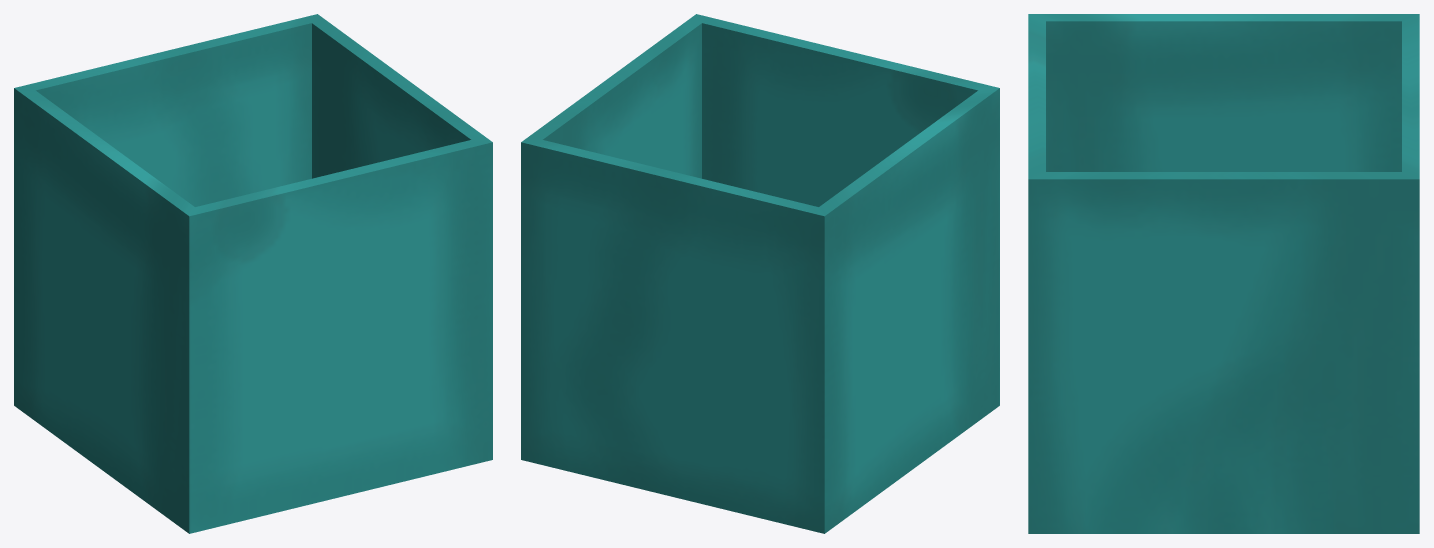
Rendered from demo2_basket.glb.
The picture shows the model from 3 angles, left to right: view 1: azimuth 30°, elevation 25°; view 2: azimuth 150°, elevation 25°; view 3: azimuth 270°, elevation 25°; orthographic projection. The views are drawn at different scales.
Parts seen in each view (by area): view 1: Cube; view 2: Cube; view 3: Cube.
Part boxes in pixels (left/top/right/bottom): Cube: left=14, top=14, right=492, bottom=533; Cube: left=521, top=14, right=999, bottom=533; Cube: left=1028, top=14, right=1419, bottom=533.
Size of the model in its own units: 0.5866 by 0.5866 by 0.5866.
Materials: 1 (1 with a texture image).
